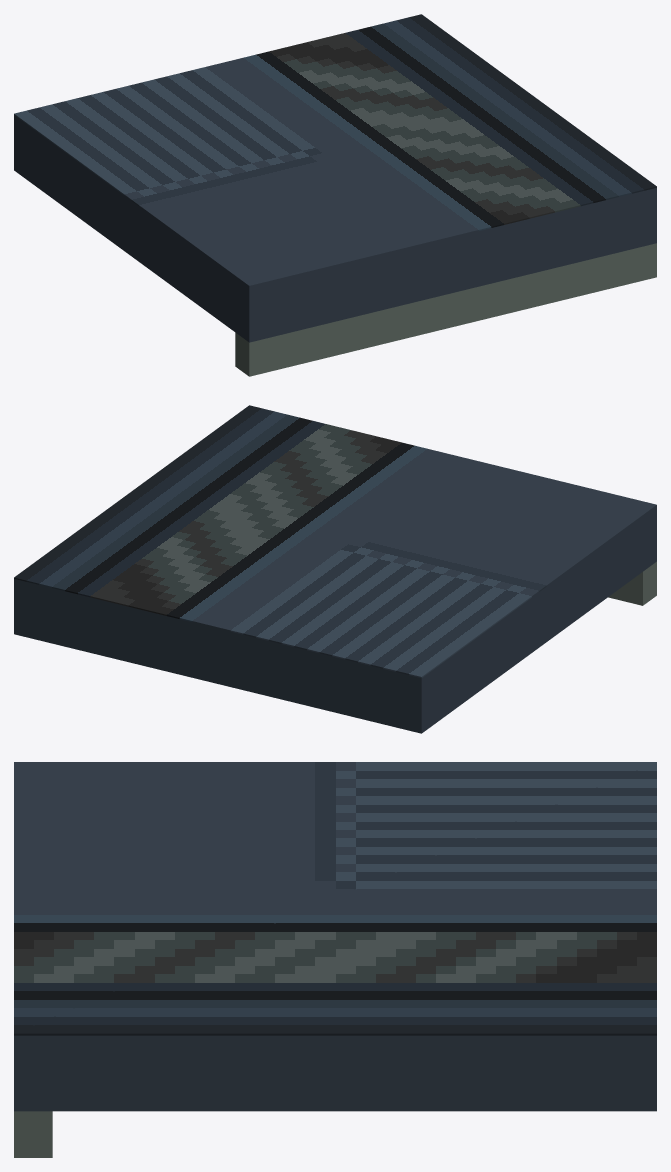
Rendered from CMU3DInteriorVehicleBoxVanFrontRoof2.glb.
3 views of the same model, one above another, from view 1: azimuth 30°, elevation 25°; view 2: azimuth 150°, elevation 25°; view 3: azimuth 270°, elevation 25° (orthographic). The views are drawn at different scales.
Visible parts, largest first — view 1: overhead armor source finish, overhead armor, inner roof rib; view 2: overhead armor source finish, overhead armor, inner roof rib; view 3: overhead armor source finish, overhead armor, inner roof rib.
Boxes of the visible parts, x1,y1,x2,y2 form: overhead armor source finish: (14,14,656,286); overhead armor: (14,115,656,342); inner roof rib: (235,243,656,376); overhead armor source finish: (14,405,656,677); overhead armor: (14,506,656,733); inner roof rib: (608,561,656,605); overhead armor source finish: (14,762,656,1035); overhead armor: (14,1035,656,1111); inner roof rib: (14,1111,52,1157).
Size of the model in its own units: 1 by 0.213 by 1.
Materials: 3 (1 with a texture image).
